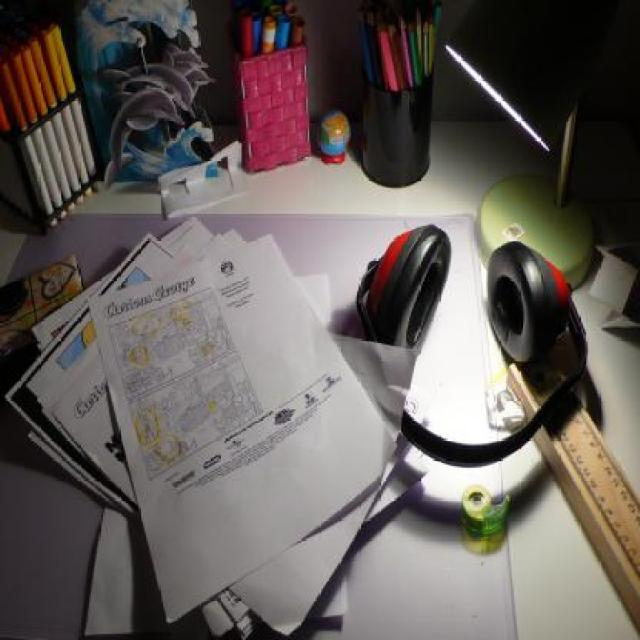earphone: (344, 195, 614, 495)
